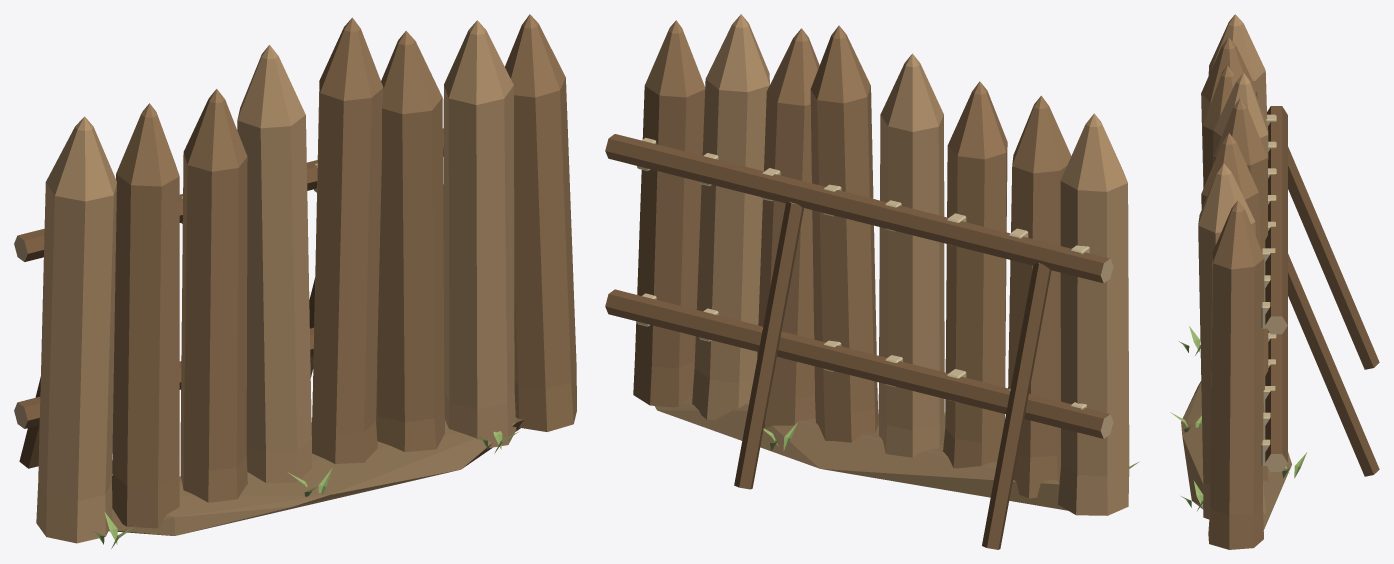
Rendered from wall_1.glb.
The picture shows the model from 3 angles, left to right: view 1: azimuth 30°, elevation 25°; view 2: azimuth 150°, elevation 25°; view 3: azimuth 270°, elevation 25°; orthographic projection. The views are drawn at different scales.
Parts seen in each view (by area): view 1: Wall; view 2: Wall; view 3: Wall.
Boxes of the visible parts, x1,y1,x2,y2 form: Wall: (14,14,576,548); Wall: (605,14,1139,549); Wall: (1170,14,1379,549).
Size of the model in its own units: 4 by 3.24 by 1.66.
